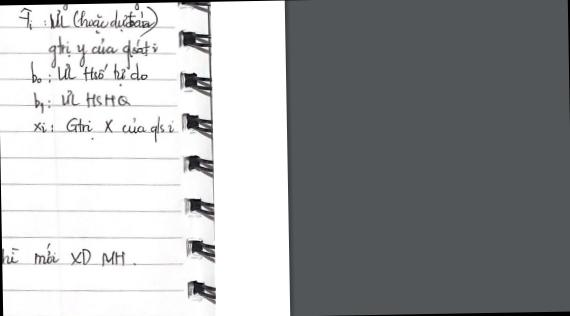text: (18, 3, 159, 38), (32, 114, 176, 146), (46, 33, 158, 70), (1, 239, 136, 269), (28, 58, 149, 88), (31, 87, 132, 114)
